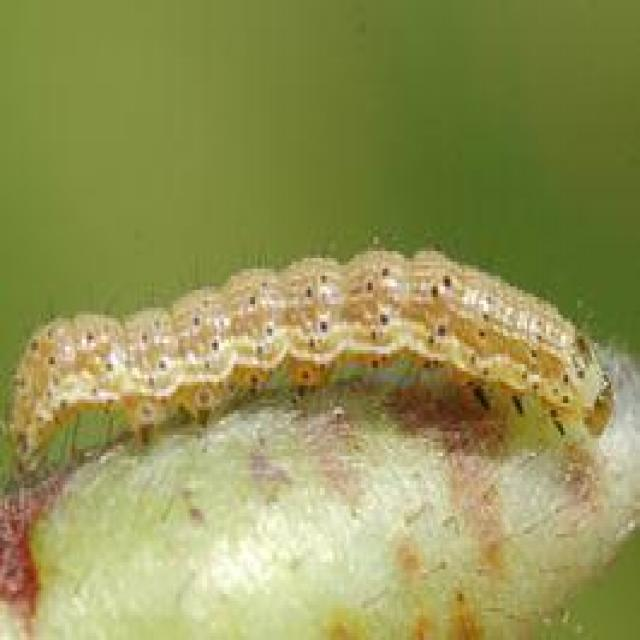BeetArmyWorm-Larva-: (16, 236, 612, 465)
